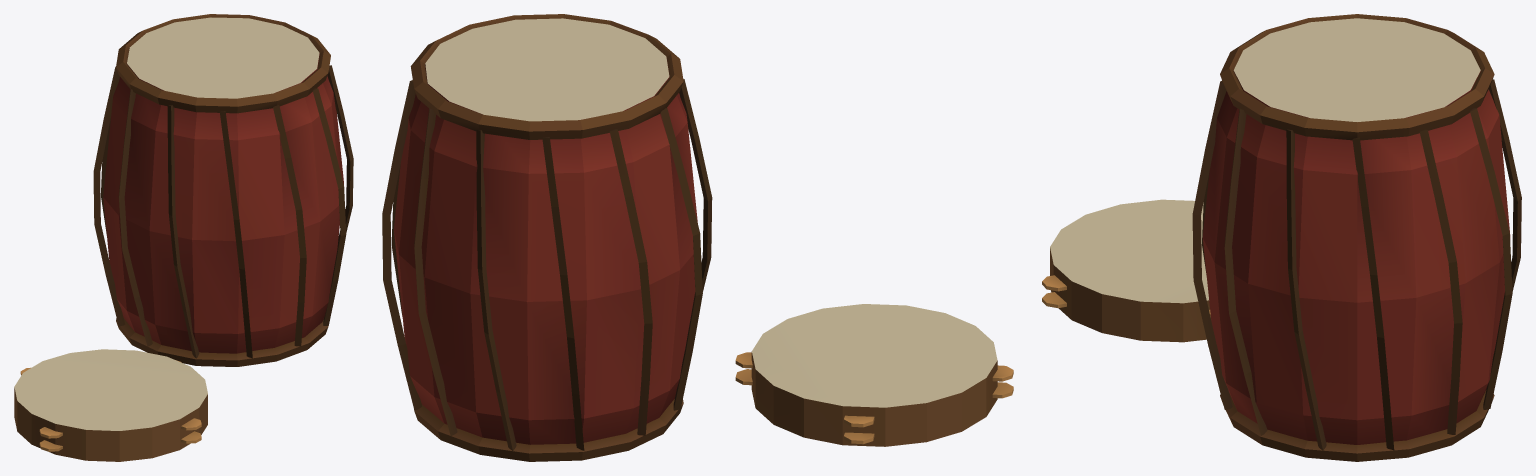
The picture shows the model from 3 angles, left to right: view 1: azimuth 30°, elevation 25°; view 2: azimuth 150°, elevation 25°; view 3: azimuth 270°, elevation 25°; orthographic projection. The views are drawn at different scales.
Parts seen in each view (by area): view 1: base; view 2: base; view 3: base.
Part boxes in pixels (x1,y1,x2,y2): base: (14, 14, 353, 461); base: (382, 14, 1013, 461); base: (1042, 14, 1521, 461).
Bounding box in the file's own units: 0.4598 × 0.3025 × 0.3898.
